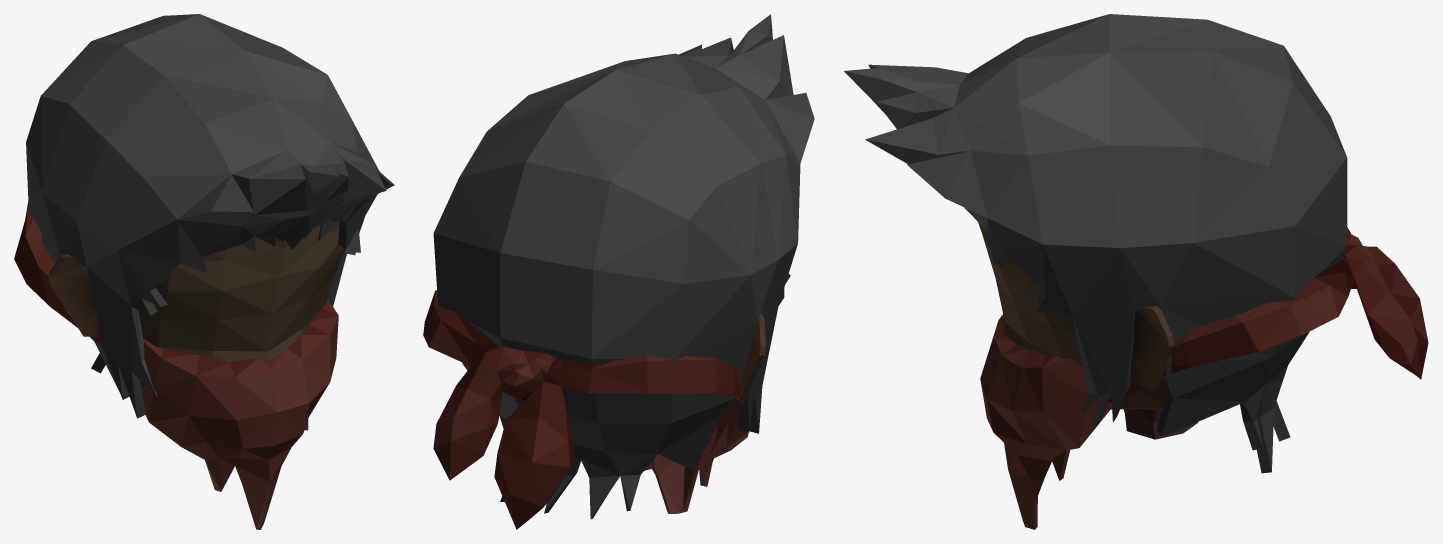
The model's file is helm_darkskin_standard_gray_bandana.fbx.
The picture shows the model from 3 angles, left to right: view 1: azimuth 30°, elevation 25°; view 2: azimuth 150°, elevation 25°; view 3: azimuth 270°, elevation 25°; orthographic projection. The views are drawn at different scales.
Parts seen in each view (by area): view 1: helm_darkskin_standard_brown_bandana; view 2: helm_darkskin_standard_brown_bandana; view 3: helm_darkskin_standard_brown_bandana.
Part boxes in pixels (<box>): helm_darkskin_standard_brown_bandana: <box>14,14,394,529</box>; helm_darkskin_standard_brown_bandana: <box>423,14,814,529</box>; helm_darkskin_standard_brown_bandana: <box>844,14,1428,529</box>.
Bounding box in the file's own units: 1.13 × 1.66 × 1.8.
